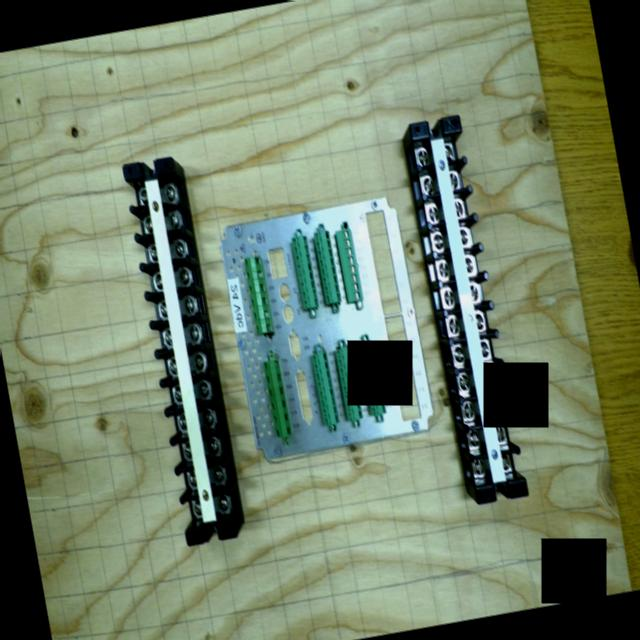Flathead_Block: (122, 156, 237, 545)
Phillips_Block: (409, 114, 528, 504)
Terminal_1: (262, 358, 292, 437), (243, 255, 273, 333)
Terminal_2: (310, 351, 339, 425), (334, 346, 362, 420), (358, 341, 386, 415), (313, 229, 341, 303), (290, 235, 318, 308)
